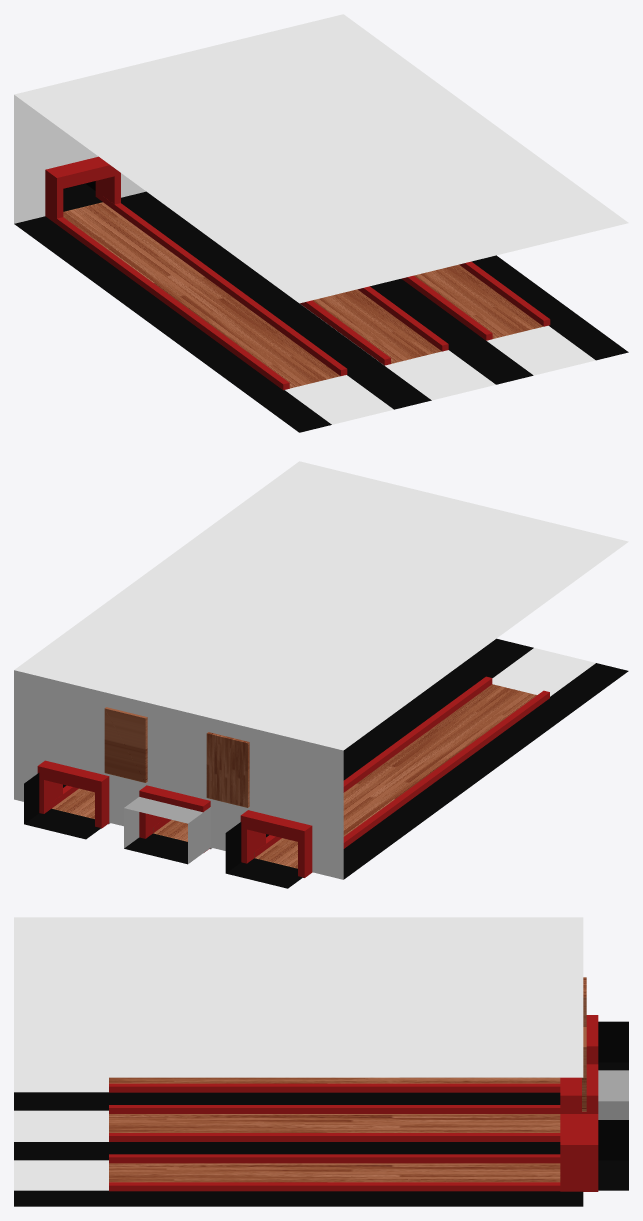
The model's file is room.fbx.
3 views of the same model, one above another, from view 1: azimuth 30°, elevation 25°; view 2: azimuth 150°, elevation 25°; view 3: azimuth 270°, elevation 25° (orthographic).
Visible parts, largest first — view 1: cube, lane5, lane1, lane4, laneEnd2; view 2: cube, lane5, sign1, sign, laneEnd2, laneEnd1, laneEnd, lane4; view 3: cube, lane4, lane1, lane5, laneEnd1, laneEnd, laneEnd2.
Boxes of the visible parts, box(x1,y1,x2,y2) form: cube: box(14, 14, 628, 432); lane5: box(57, 196, 347, 390); lane1: box(300, 286, 448, 365); lane4: box(401, 261, 550, 340); laneEnd2: box(45, 156, 120, 224); cube: box(14, 461, 628, 888); lane5: box(254, 676, 549, 868); sign1: box(104, 707, 147, 782); sign: box(206, 732, 249, 807); laneEnd2: box(240, 810, 312, 877); laneEnd1: box(37, 760, 109, 828); laneEnd: box(139, 785, 210, 852); lane4: box(51, 785, 94, 818); cube: box(14, 917, 628, 1206); lane4: box(109, 1154, 560, 1191); lane1: box(109, 1105, 560, 1141); lane5: box(109, 1077, 560, 1092); laneEnd1: box(560, 1114, 598, 1191); laneEnd: box(560, 1064, 598, 1113); laneEnd2: box(586, 1015, 598, 1064).
Size of the model in its own units: 80 by 30.41 by 130.
7 materials, 3 textured.
